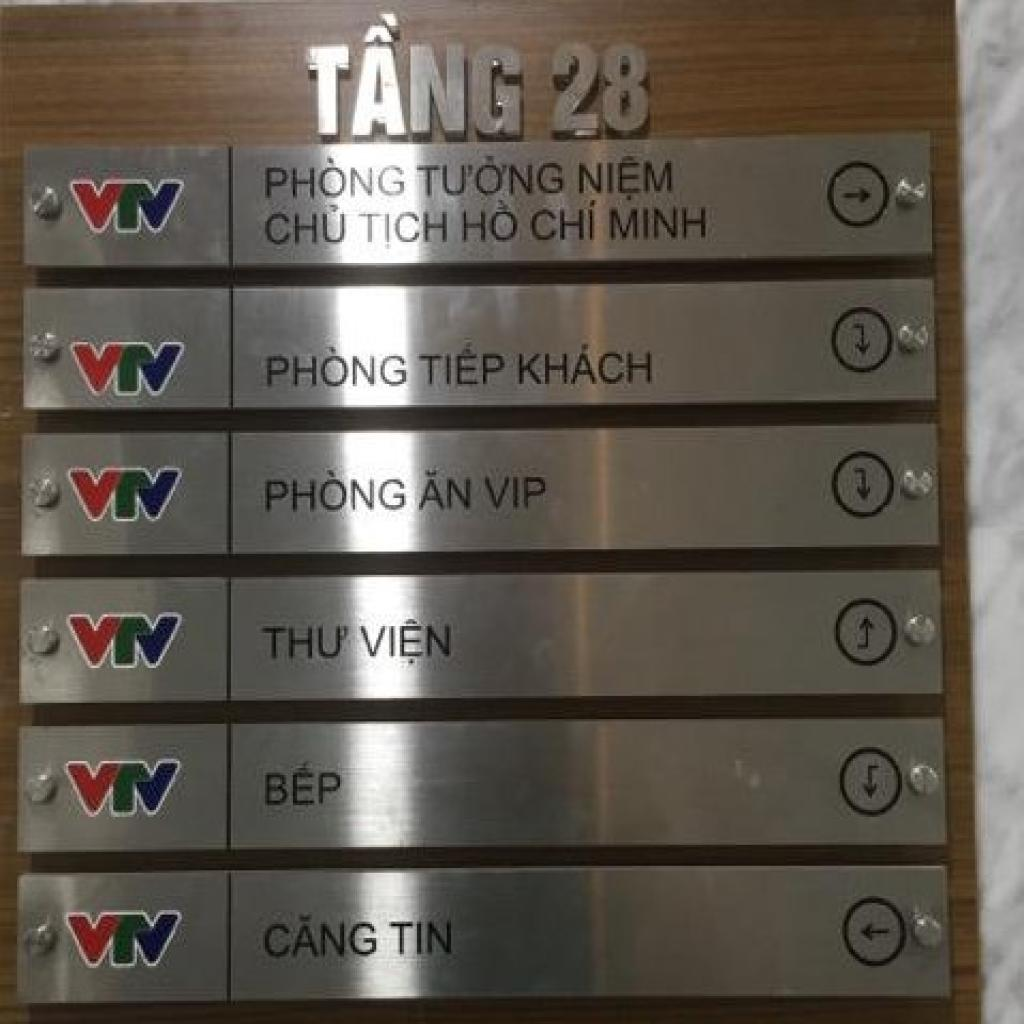text: (295, 7, 534, 147), (538, 35, 660, 144), (412, 146, 570, 204), (56, 756, 188, 822), (256, 466, 410, 522), (513, 338, 661, 396), (260, 340, 412, 396), (60, 908, 192, 972), (60, 610, 188, 675), (66, 338, 190, 402), (62, 466, 190, 528), (254, 908, 385, 966), (66, 177, 190, 237), (263, 154, 410, 204), (573, 149, 682, 205), (355, 612, 455, 670), (415, 338, 511, 396), (256, 616, 355, 666), (260, 202, 350, 254), (355, 207, 453, 254), (261, 759, 348, 810), (607, 205, 710, 244), (528, 198, 603, 247), (460, 198, 526, 249), (414, 465, 476, 519), (479, 470, 554, 514)
